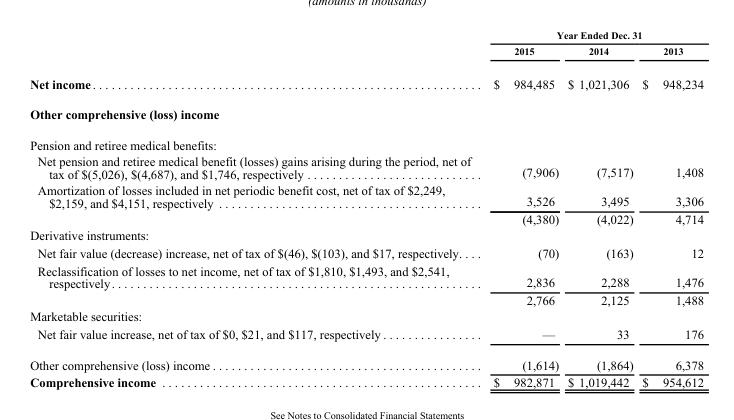table: (29, 28, 703, 388)
table column: (29, 28, 481, 388), (481, 28, 562, 388), (562, 28, 637, 388), (637, 28, 703, 388)
table column header: (29, 28, 703, 66)
table projected row header: (29, 98, 703, 128), (29, 128, 703, 152), (29, 226, 703, 243), (29, 307, 703, 324)
table row: (29, 66, 703, 98), (29, 98, 703, 128), (29, 261, 703, 291), (29, 152, 703, 181), (29, 181, 703, 210), (29, 324, 703, 349), (29, 42, 703, 66), (29, 128, 703, 152), (29, 349, 703, 373), (29, 243, 703, 261), (29, 226, 703, 243), (29, 307, 703, 324), (29, 210, 703, 226), (29, 291, 703, 307), (29, 373, 703, 388), (29, 28, 703, 42)
table spanning cell: (481, 28, 703, 42)
